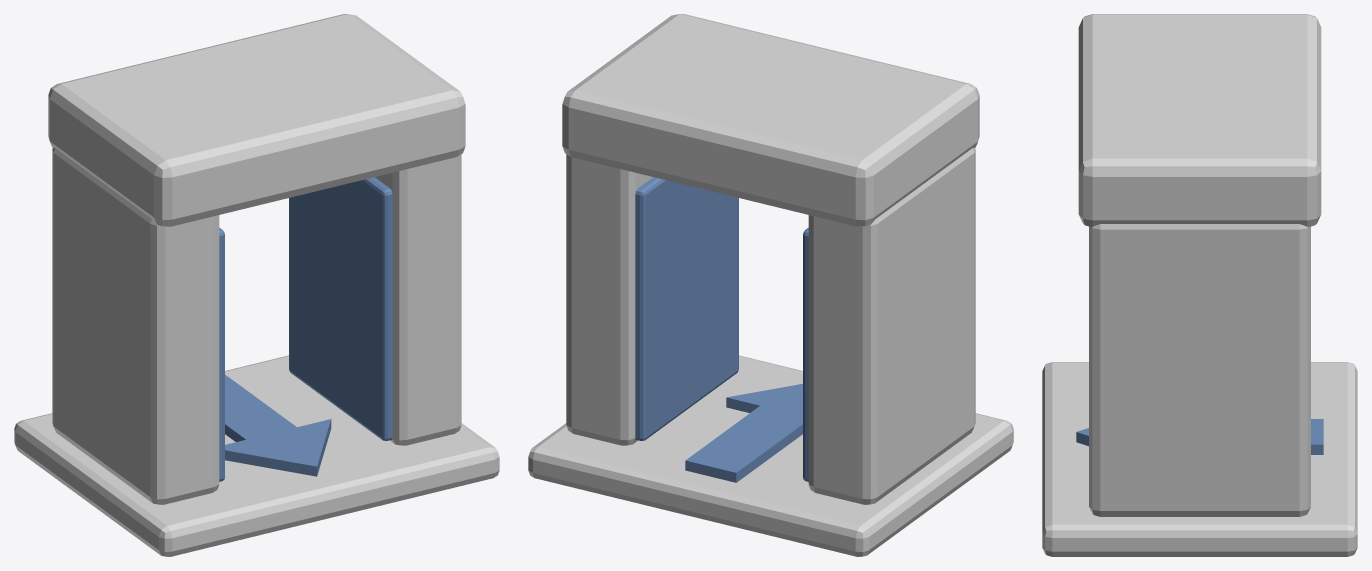
Rendered from gateway.glb.
The picture shows the model from 3 angles, left to right: view 1: azimuth 30°, elevation 25°; view 2: azimuth 150°, elevation 25°; view 3: azimuth 270°, elevation 25°; orthographic projection. The views are drawn at different scales.
Visible parts, largest first — view 1: lintel, pillar.-1, threshold, inner-jamb.1, pillar.1, through-arrow, inner-jamb.-1; view 2: lintel, pillar.-1, threshold, inner-jamb.1, pillar.1, through-arrow, inner-jamb.-1; view 3: pillar.1, lintel, threshold, through-arrow.
Part boxes in pixels (x1=…): lintel: x1=48, y1=14, x2=465, y2=226; pillar.-1: x1=52, y1=148, x2=219, y2=504; threshold: x1=14, y1=355, x2=499, y2=556; inner-jamb.1: x1=289, y1=177, x2=392, y2=440; pillar.1: x1=375, y1=154, x2=461, y2=445; through-arrow: x1=225, y1=374, x2=331, y2=476; inner-jamb.-1: x1=219, y1=228, x2=224, y2=481; lintel: x1=562, y1=14, x2=979, y2=226; pillar.-1: x1=808, y1=148, x2=975, y2=504; threshold: x1=528, y1=355, x2=1013, y2=556; inner-jamb.1: x1=635, y1=177, x2=738, y2=440; pillar.1: x1=566, y1=154, x2=652, y2=445; through-arrow: x1=685, y1=384, x2=802, y2=482; inner-jamb.-1: x1=803, y1=228, x2=808, y2=481; pillar.1: x1=1089, y1=224, x2=1310, y2=516; lintel: x1=1078, y1=14, x2=1321, y2=227; threshold: x1=1042, y1=362, x2=1357, y2=556; through-arrow: x1=1076, y1=419, x2=1323, y2=454.
Size of the model in its own units: 1.6 by 1.7 by 1.25.
